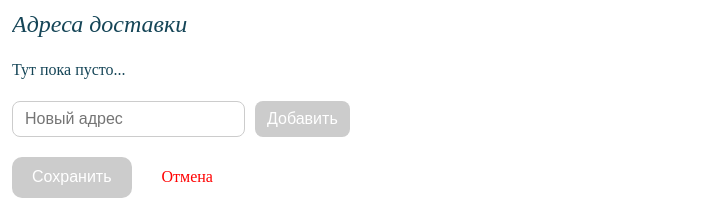
Test: AddressManager › добавляет новый адрес при нажатии кнопки
In the field with placeholder "Новый адрес": [128, 119] box [12, 101, 245, 137], type "12345 Some street"
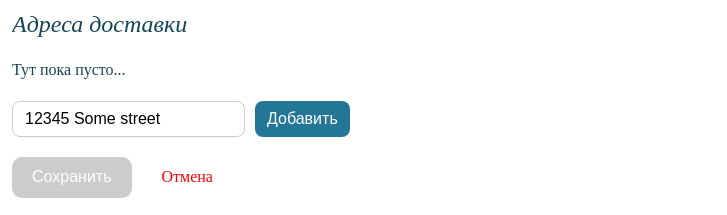
Check: the button "Добавить" is enabled
Click the button "Добавить": [302, 119] box [255, 101, 350, 137]
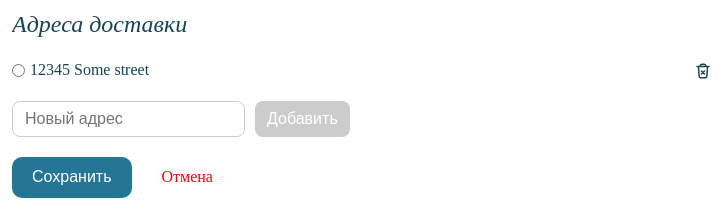
Check: the text "12345 Some street" is shown, box [30, 60, 149, 81]
